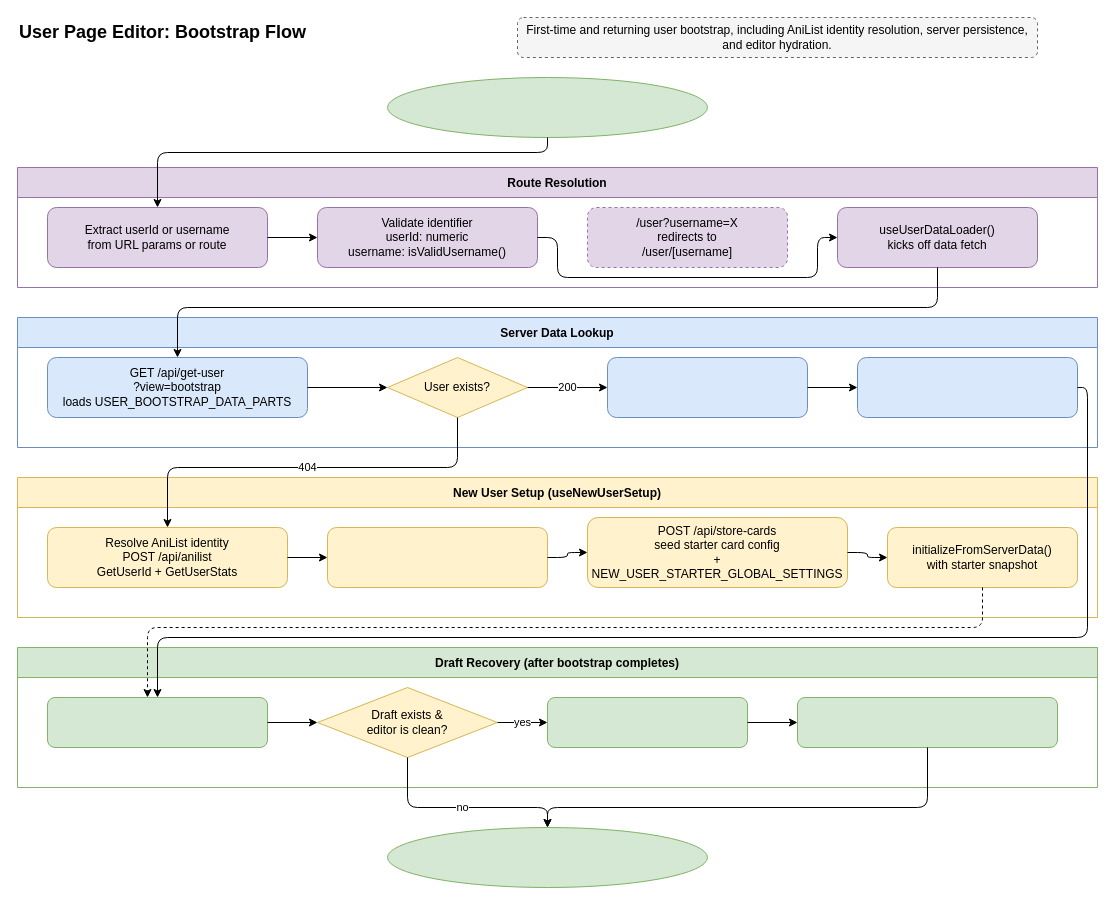
Image size: 1115x905. Some labels were removed from this diagram. Here are the shapes that lost their labels. From the top down, the centre of each, then its label:
point 547,107: User navigates to /user/[username] or /user?userId=...
point 707,387: GET /api/get-cards ?userId=...
point 967,387: initializeFromServerData() normalize, seed missing cards, capture baselines
point 437,557: POST /api/store-users persist new user snapshot
point 157,722: readUserPageDraft(userId) from localStorage
point 647,722: Show draft notice: Restore / Discard
point 927,722: Restore: applyLocalEditsPatch() Discard: clearUserPageDraft()
point 547,857: Editor Ready UserPageEditor fully hydrated
